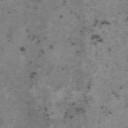oxide scale of temperature system: (25, 78, 124, 122), (34, 0, 112, 54), (18, 28, 54, 78), (125, 16, 128, 21)
